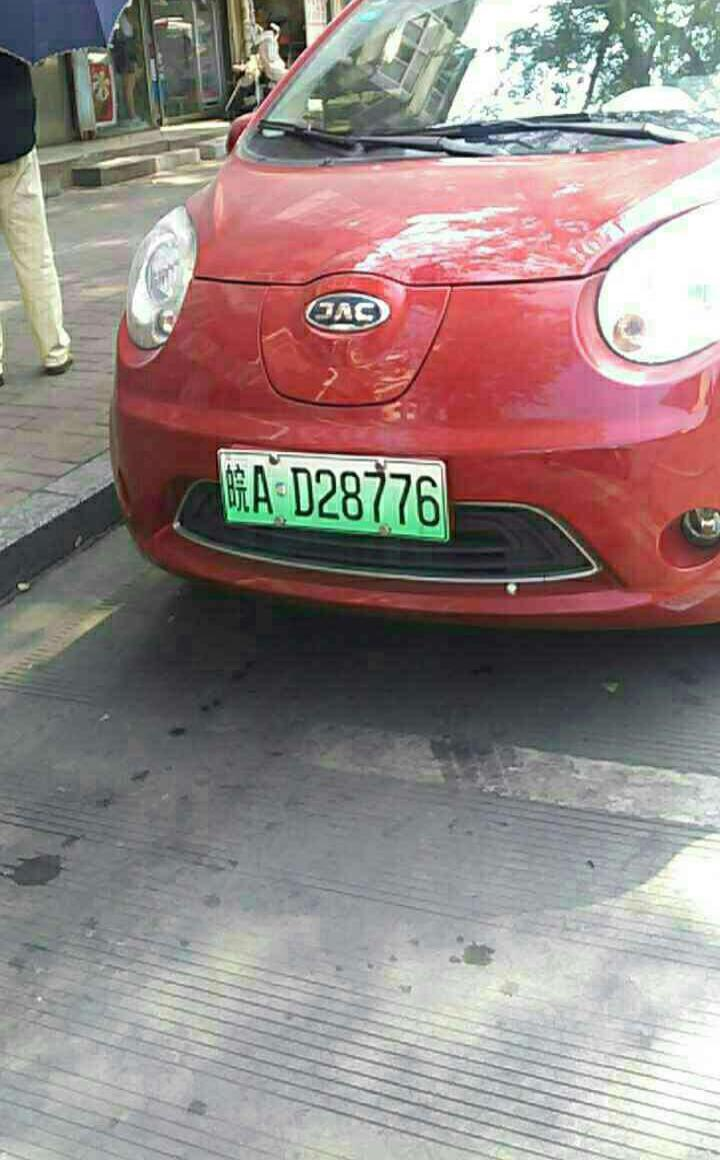car_id: (220, 451, 444, 534)
